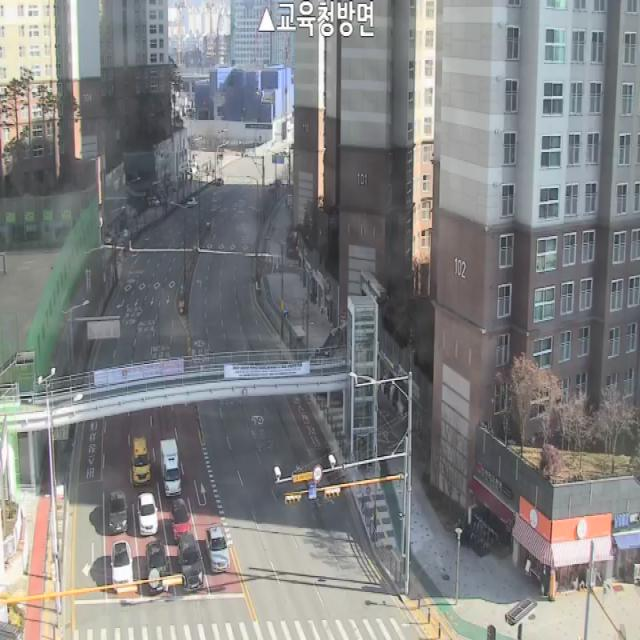Car: (178, 534, 204, 591), (110, 540, 132, 593), (146, 540, 168, 592), (206, 527, 231, 572), (132, 438, 150, 486), (138, 493, 158, 535), (171, 499, 191, 540), (109, 492, 127, 534)
Truck: (160, 439, 182, 496)
